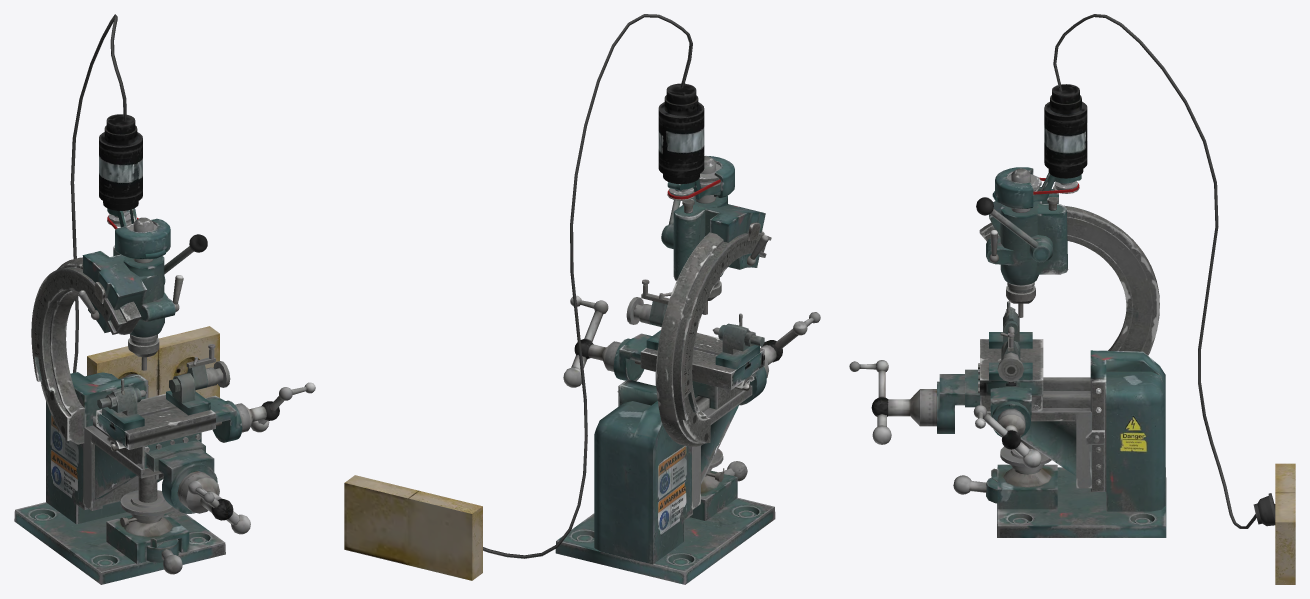
The picture shows the model from 3 angles, left to right: view 1: azimuth 30°, elevation 25°; view 2: azimuth 150°, elevation 25°; view 3: azimuth 270°, elevation 25°; orthographic projection. The views are drawn at different scales.
Parts seen in each view (by area): view 1: machin3_low; view 2: machin3_low; view 3: machin3_low.
Part boxes in pixels (x1=…): machin3_low: x1=14, y1=14, x2=315, y2=584; machin3_low: x1=344, y1=14, x2=820, y2=584; machin3_low: x1=849, y1=14, x2=1295, y2=584.
Size of the model in its own units: 4.23 by 7.64 by 6.22.
1 material, 1 textured.
